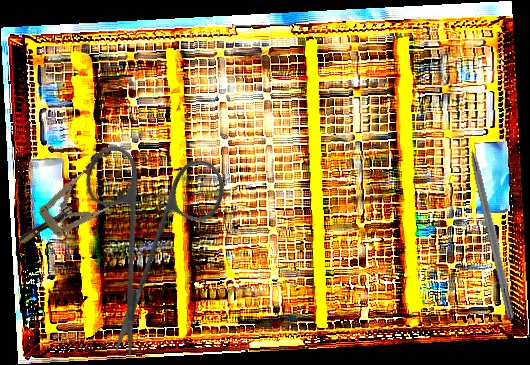Hook Surgical: (462, 124, 518, 321)
Iris Scissors: (17, 102, 276, 362)
Speculum: (4, 145, 138, 263)
